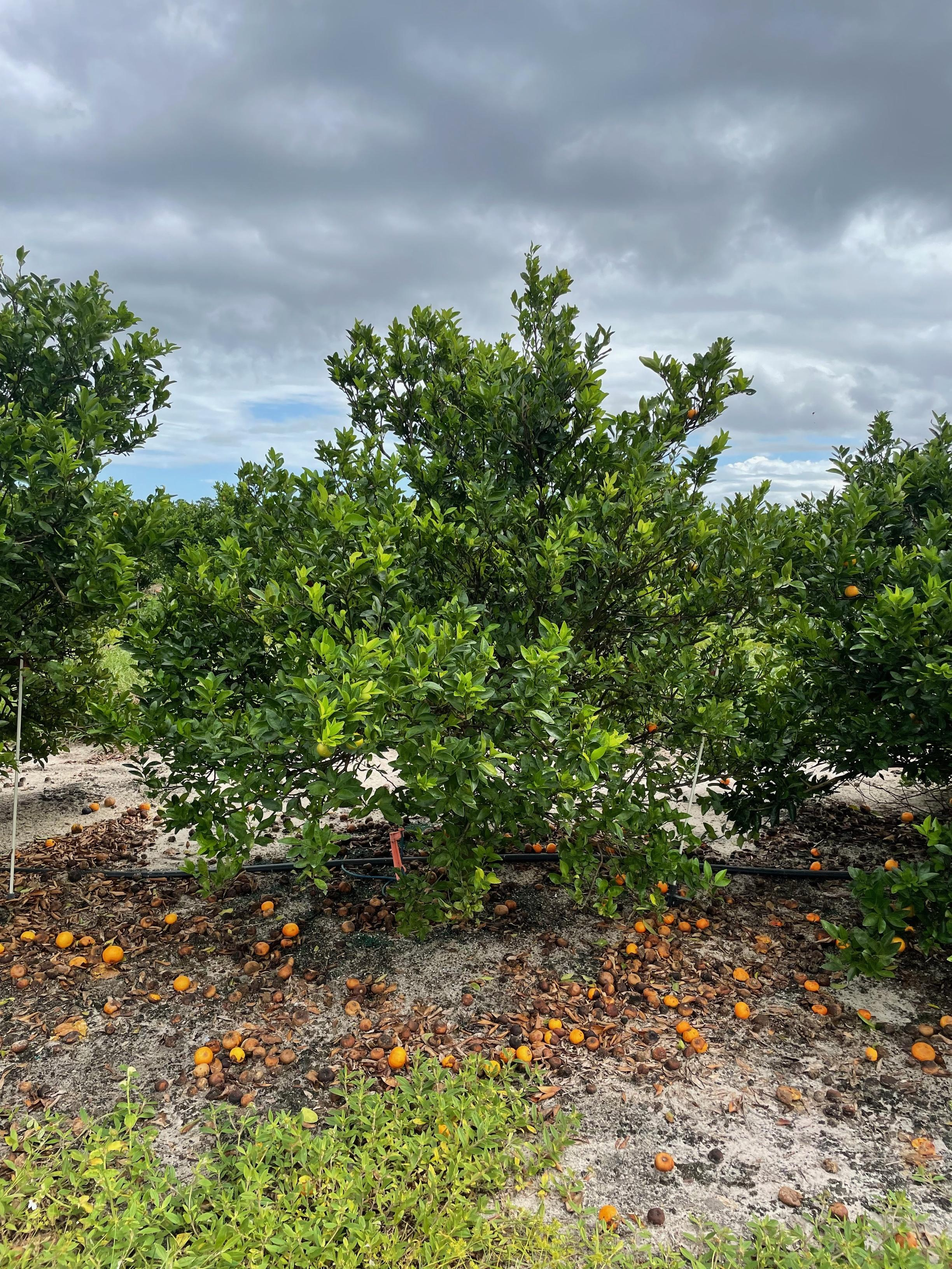fruit_on_ground: (343, 730, 365, 753), (315, 738, 336, 760), (887, 934, 907, 954), (841, 581, 861, 600), (841, 552, 861, 569), (683, 404, 700, 421), (899, 901, 916, 917), (613, 871, 630, 887), (906, 710, 923, 725), (883, 857, 900, 872), (653, 879, 669, 894), (644, 720, 659, 735)
fruit_on_tree: (892, 1228, 921, 1253), (776, 1183, 805, 1207), (775, 1084, 803, 1105), (653, 1150, 676, 1174), (102, 942, 126, 964), (912, 1040, 937, 1061), (828, 1200, 851, 1222), (597, 1203, 620, 1225), (435, 1119, 459, 1140), (388, 1045, 409, 1068), (54, 928, 75, 949), (220, 1029, 242, 1049), (192, 1045, 213, 1065), (172, 972, 192, 992), (206, 1071, 226, 1090), (440, 1053, 459, 1072), (483, 1059, 501, 1079), (17, 928, 38, 945), (338, 919, 357, 937), (516, 1044, 534, 1063), (251, 939, 271, 956), (9, 962, 30, 978), (733, 1001, 751, 1019), (367, 1044, 386, 1061), (690, 1037, 709, 1054), (674, 1019, 693, 1036), (731, 965, 750, 982), (281, 920, 300, 937), (238, 1091, 256, 1108), (103, 998, 121, 1015), (543, 1029, 560, 1047), (14, 975, 33, 991), (192, 1062, 210, 1078), (597, 970, 613, 988), (682, 1029, 700, 1045), (344, 1000, 362, 1016), (278, 1047, 296, 1063), (201, 982, 219, 998), (228, 1047, 246, 1063), (345, 975, 363, 991), (810, 1001, 829, 1016), (916, 1021, 935, 1036), (644, 993, 661, 1009), (527, 1029, 544, 1045), (500, 1046, 516, 1063), (565, 981, 582, 997), (243, 960, 261, 975), (78, 933, 96, 948), (277, 963, 293, 979), (863, 1045, 879, 1061), (339, 1031, 356, 1046), (651, 1046, 668, 1061), (242, 1037, 259, 1052), (856, 1006, 873, 1021), (625, 972, 642, 987), (259, 898, 276, 913), (162, 910, 179, 925), (804, 978, 821, 993), (280, 934, 299, 947), (655, 942, 671, 957), (336, 879, 352, 894), (459, 990, 475, 1005), (492, 901, 508, 916), (567, 1029, 583, 1044), (663, 994, 679, 1009), (138, 914, 155, 928), (645, 933, 662, 947), (641, 986, 658, 1000), (665, 1057, 682, 1071), (681, 1043, 696, 1058), (585, 1035, 600, 1050), (936, 1013, 951, 1028), (604, 1002, 620, 1016), (264, 1054, 280, 1068), (368, 982, 384, 996), (547, 1017, 563, 1031), (238, 1069, 253, 1083), (676, 883, 691, 897), (251, 1048, 266, 1062), (154, 1078, 169, 1092), (678, 1002, 693, 1016), (662, 911, 677, 925), (633, 919, 648, 933), (625, 942, 640, 956), (102, 795, 117, 809), (900, 809, 915, 823), (695, 916, 711, 929), (271, 989, 285, 1003), (600, 958, 614, 972), (643, 948, 657, 962), (586, 986, 600, 1000), (505, 896, 519, 910), (137, 799, 151, 813), (544, 840, 558, 854), (432, 1021, 447, 1034), (367, 894, 382, 907), (835, 936, 850, 949), (358, 1017, 373, 1030), (529, 840, 544, 853), (677, 919, 692, 932), (123, 805, 139, 817), (303, 968, 317, 981), (656, 924, 670, 937), (718, 774, 733, 786), (805, 910, 820, 922), (859, 802, 872, 815), (335, 905, 349, 917), (70, 821, 84, 833), (555, 935, 569, 947), (809, 846, 822, 858), (344, 822, 358, 833), (0, 939, 9, 956), (533, 878, 545, 890), (44, 836, 56, 848), (88, 801, 100, 813), (809, 860, 822, 871)
